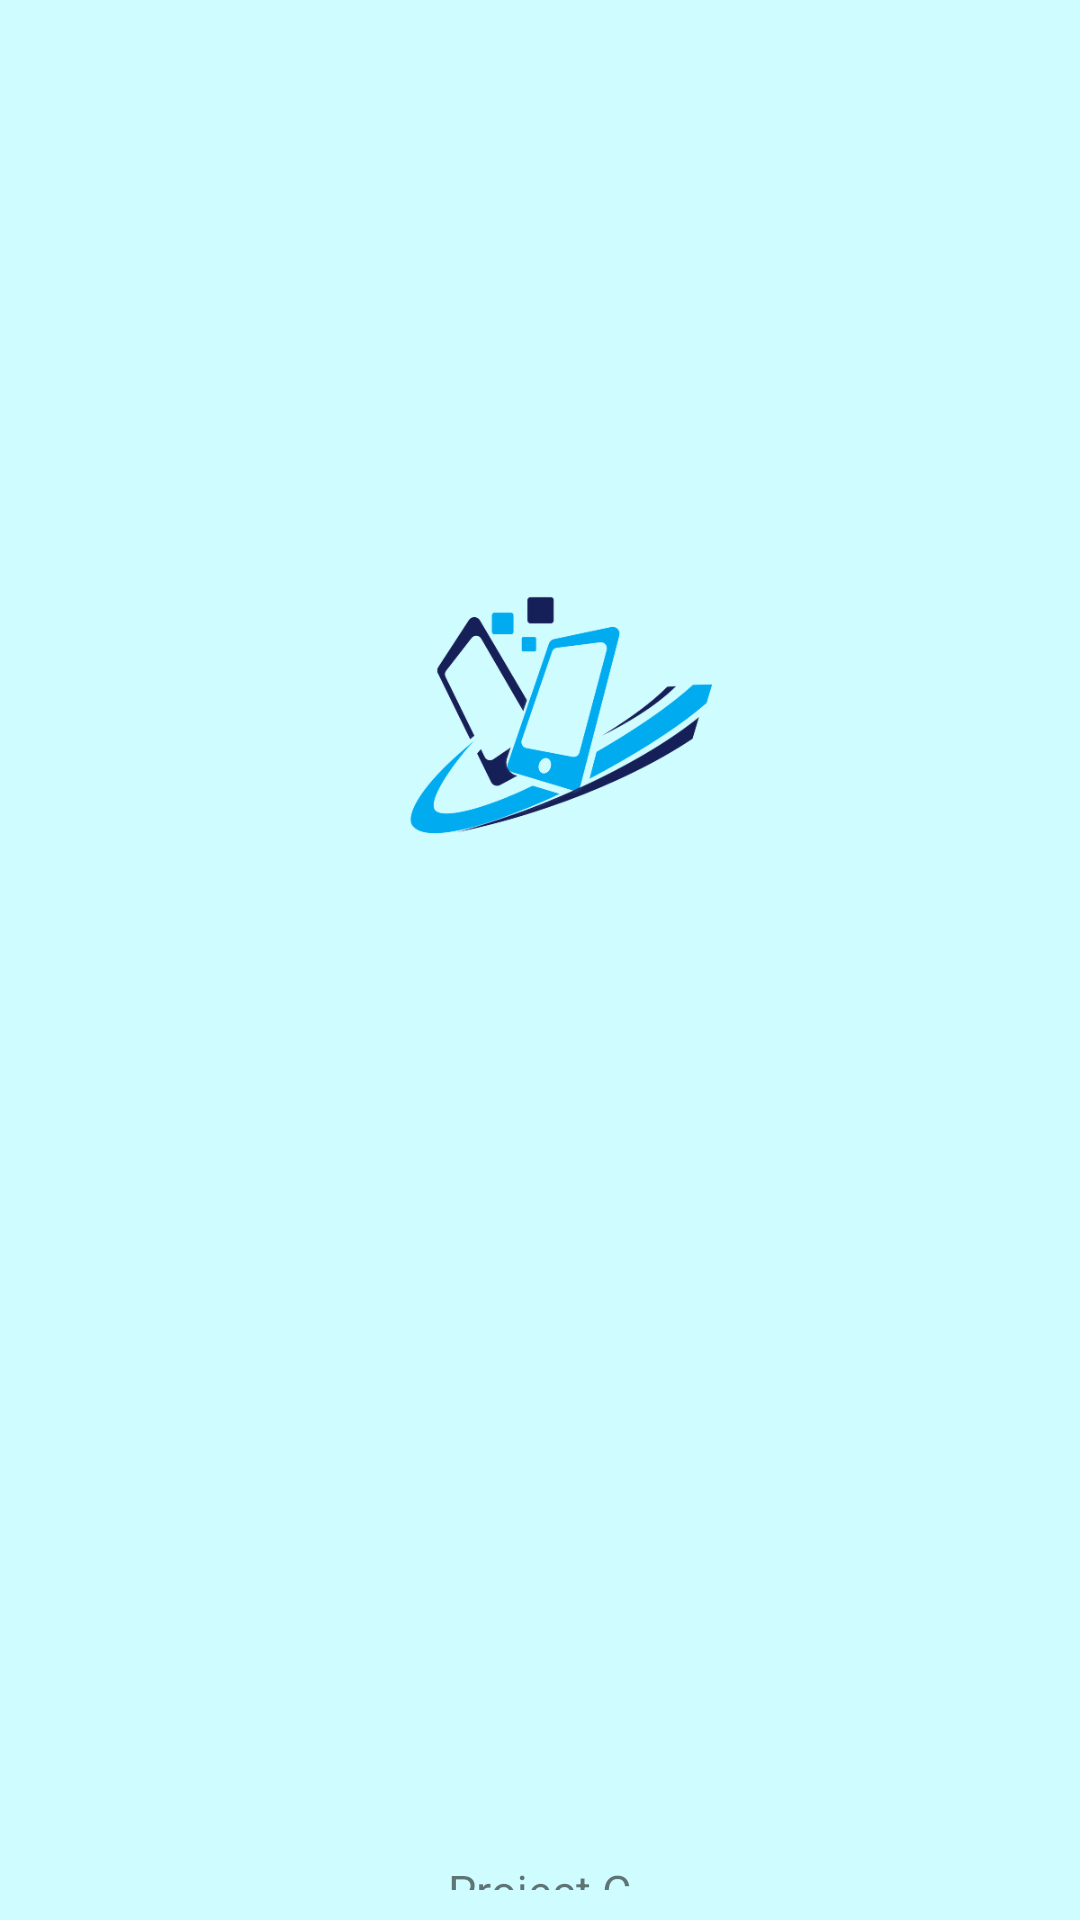

Icons on this 1080px x 1920px Android screen, each with its box as (x1, y1, x2, y2):
iconandroid: (410, 597, 712, 833)
